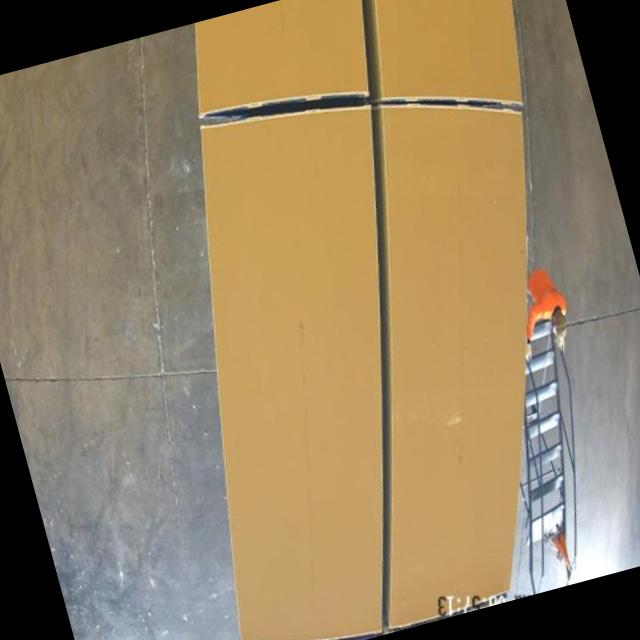person: (504, 251, 589, 362)
